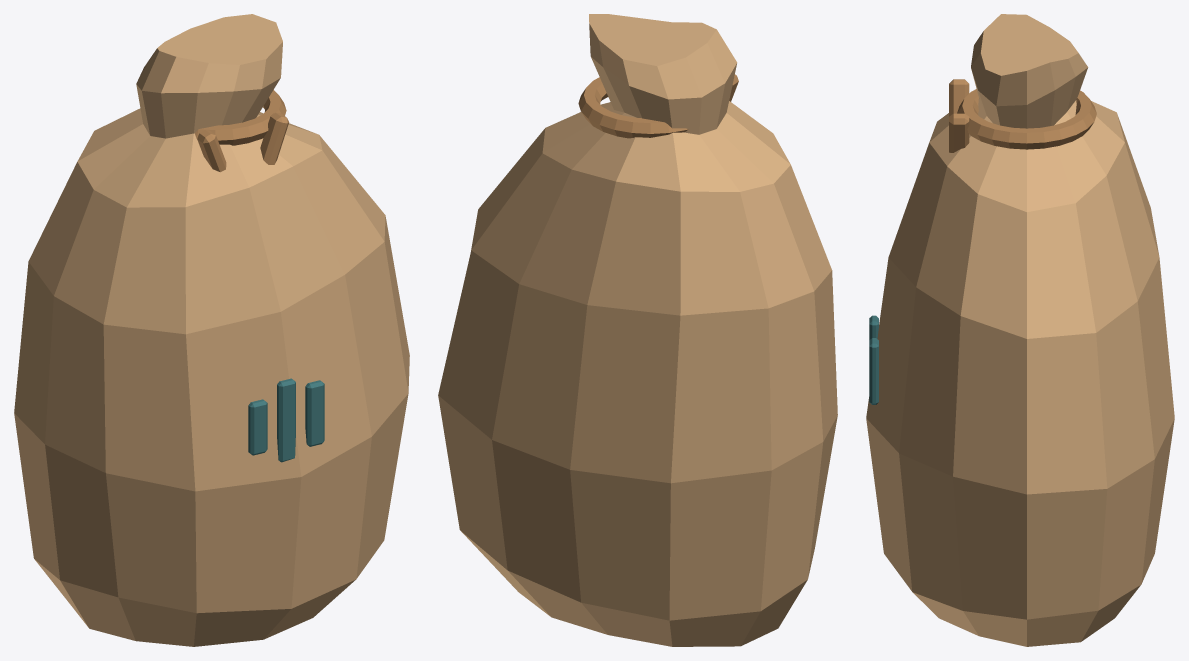
3 views of the same model, side by side, from view 1: azimuth 30°, elevation 25°; view 2: azimuth 150°, elevation 25°; view 3: azimuth 270°, elevation 25° (orthographic). The views are drawn at different scales.
Parts seen in each view (by area): view 1: harbor-cargo-sack-01; view 2: harbor-cargo-sack-01; view 3: harbor-cargo-sack-01.
Boxes of the visible parts, x1,y1,x2,y2 form: harbor-cargo-sack-01: [14, 14, 409, 646]; harbor-cargo-sack-01: [438, 14, 837, 646]; harbor-cargo-sack-01: [866, 14, 1174, 646].
Bounding box in the file's own units: 0.55 × 0.8118 × 0.41.
